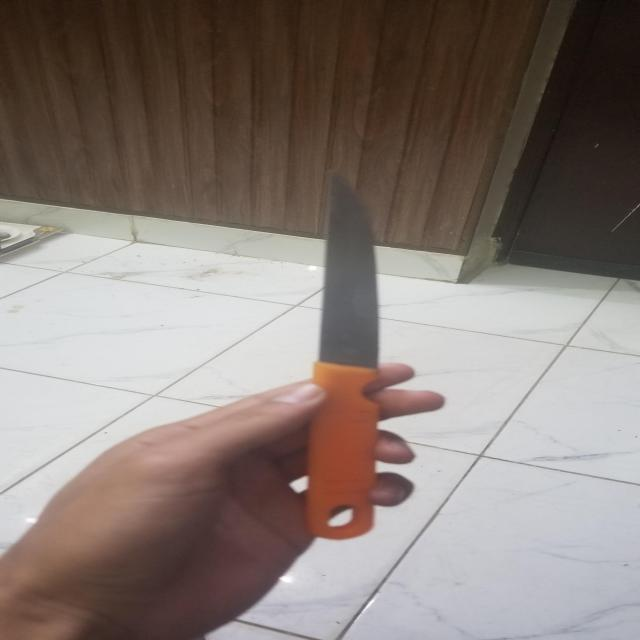Knife: (298, 165, 396, 546)
